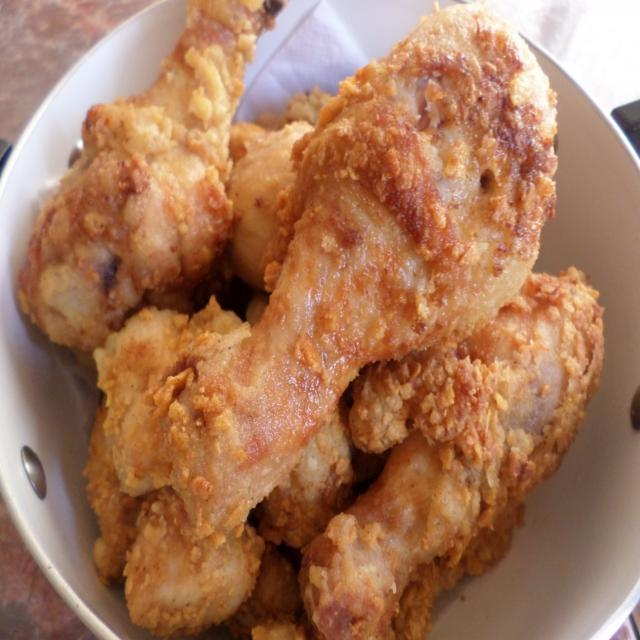Frango: (43, 3, 607, 640)
